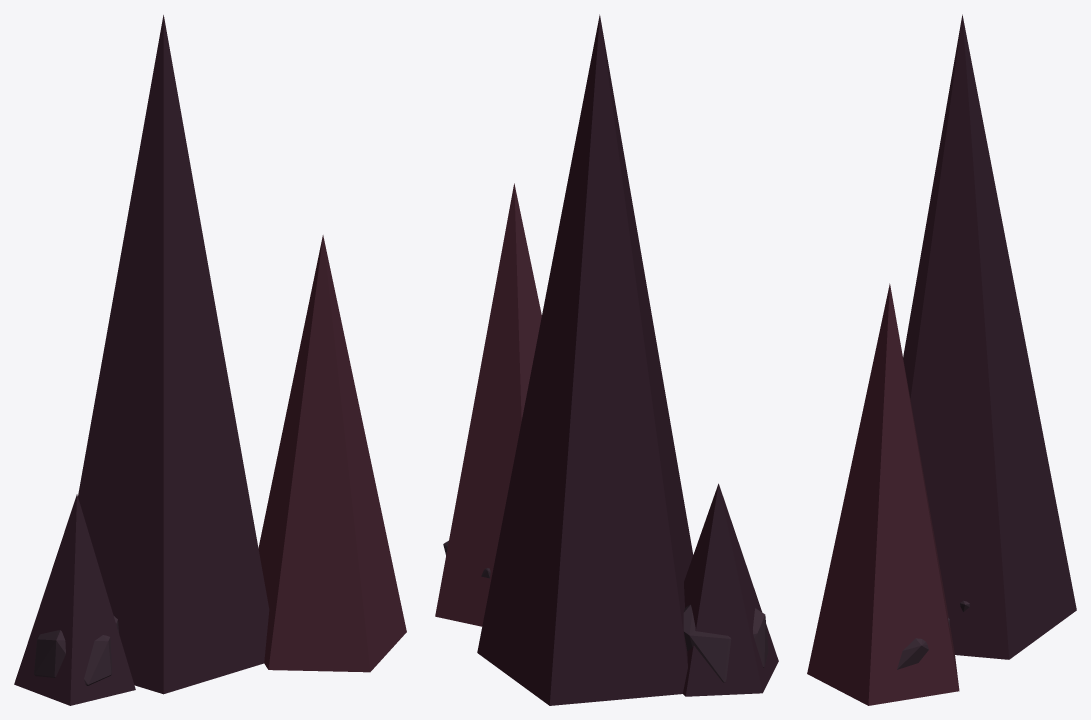
The model's file is FSA_ENV_Arena_Spikes_06.glb.
3 views of the same model, side by side, from view 1: azimuth 30°, elevation 25°; view 2: azimuth 150°, elevation 25°; view 3: azimuth 270°, elevation 25° (orthographic). The views are drawn at different scales.
Parts seen in each view (by area): view 1: Spike_0, Spike_1, Spike_2, Basalt_2; view 2: Spike_0, Spike_1, Spike_2, Basalt_2; view 3: Spike_0, Spike_1, Basalt_1.
Boxes of the visible parts, x1,y1,x2,y2 form: Spike_0: (78, 15, 269, 694); Spike_1: (258, 235, 406, 672); Spike_2: (14, 494, 135, 705); Basalt_2: (34, 616, 119, 685); Spike_0: (477, 14, 693, 705); Spike_1: (435, 183, 541, 626); Spike_2: (683, 483, 778, 696); Basalt_2: (683, 604, 768, 682); Spike_0: (903, 14, 1076, 659); Spike_1: (807, 283, 959, 705); Basalt_1: (897, 618, 949, 669).
Size of what is drawn, in the model's own units: 2.07 by 3.61 by 1.45.
